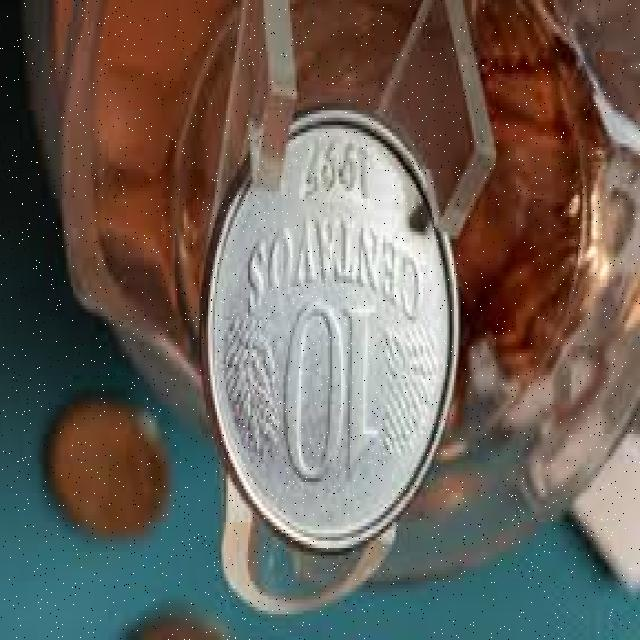10 cent: (215, 124, 453, 550)
